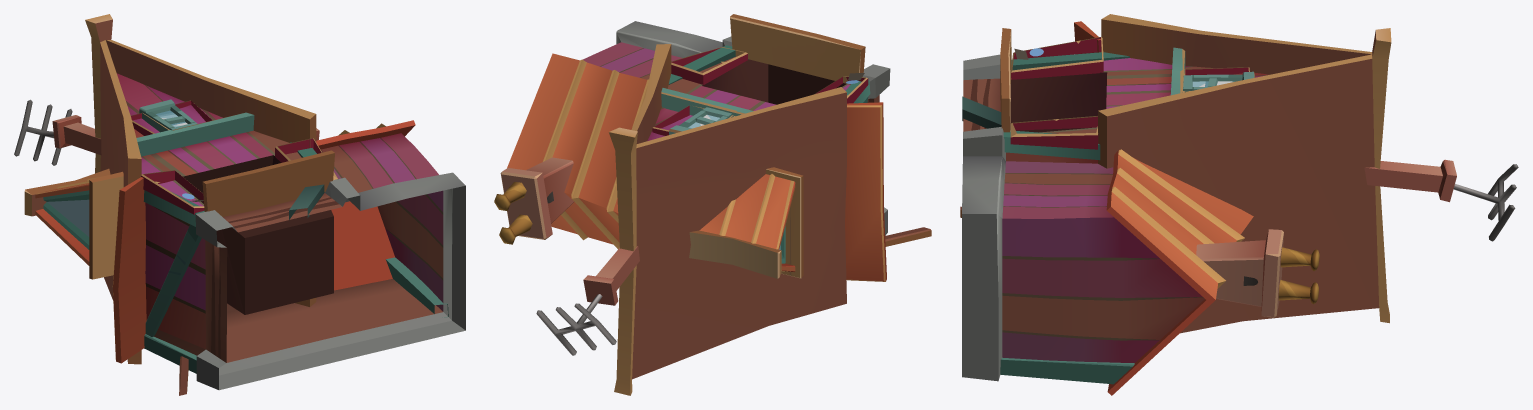
The model's file is RookiesShop.fbx.
The picture shows the model from 3 angles, left to right: view 1: azimuth 30°, elevation 25°; view 2: azimuth 150°, elevation 25°; view 3: azimuth 270°, elevation 25°; orthographic projection. The views are drawn at different scales.
Visible parts, largest first — view 1: RookieShop; view 2: RookieShop; view 3: RookieShop.
Part boxes in pixels (left/top/right/bottom): RookieShop: left=14, top=14, right=465, bottom=395; RookieShop: left=494, top=14, right=931, bottom=395; RookieShop: left=960, top=14, right=1518, bottom=395.
Bounding box in the file's own units: 507 × 394 × 701.
